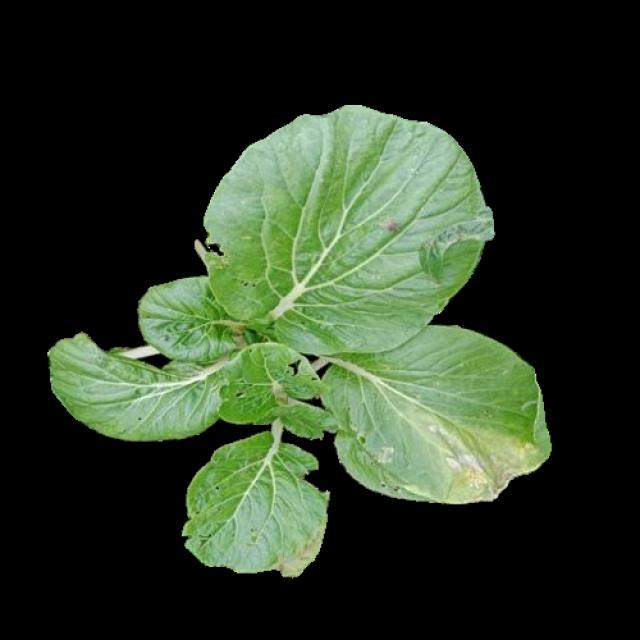not-mature: (50, 111, 546, 576)
unhealthy: (205, 110, 489, 352), (325, 322, 548, 498), (182, 439, 326, 575), (54, 337, 221, 439), (139, 282, 228, 359)
